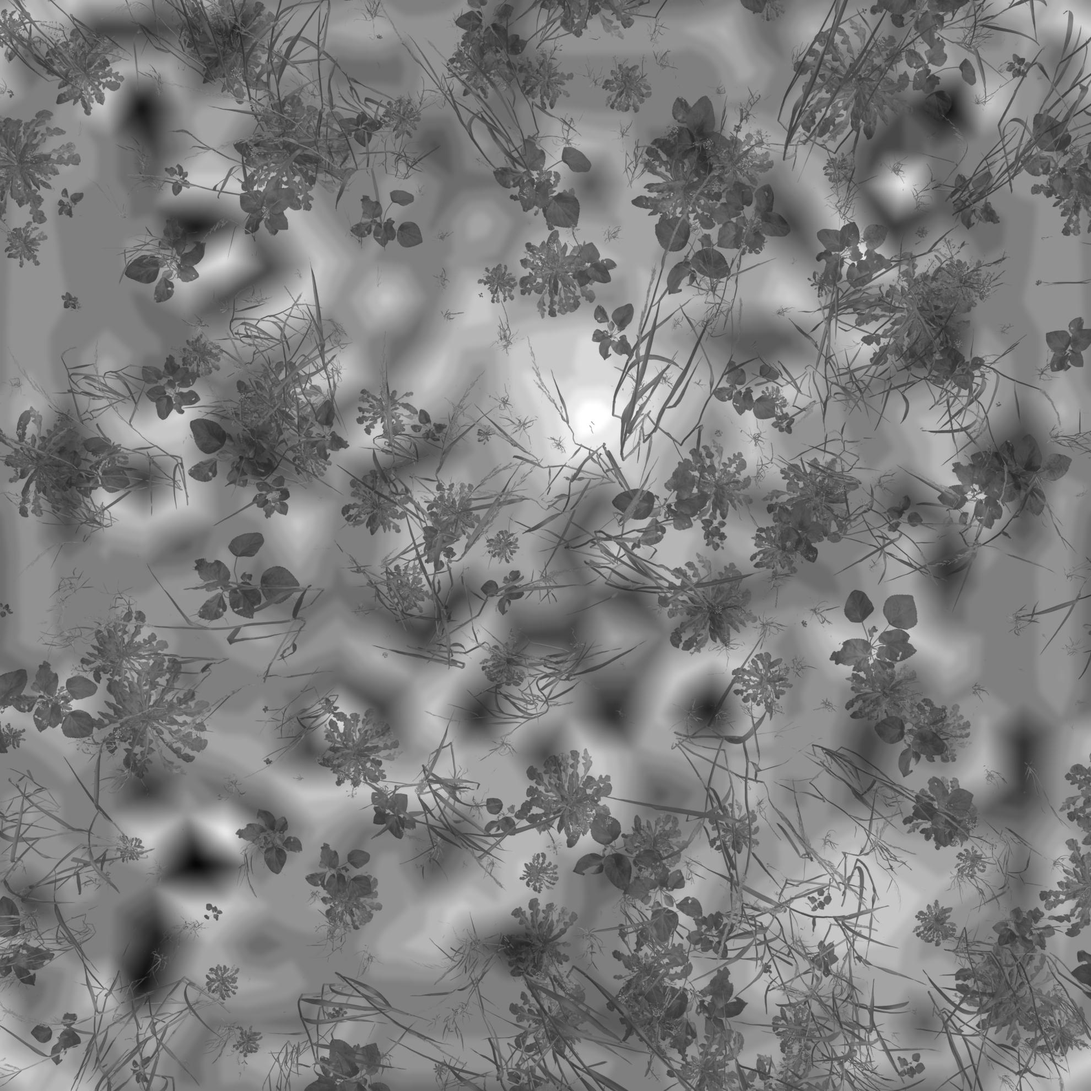landmine: (511, 333, 658, 491)
